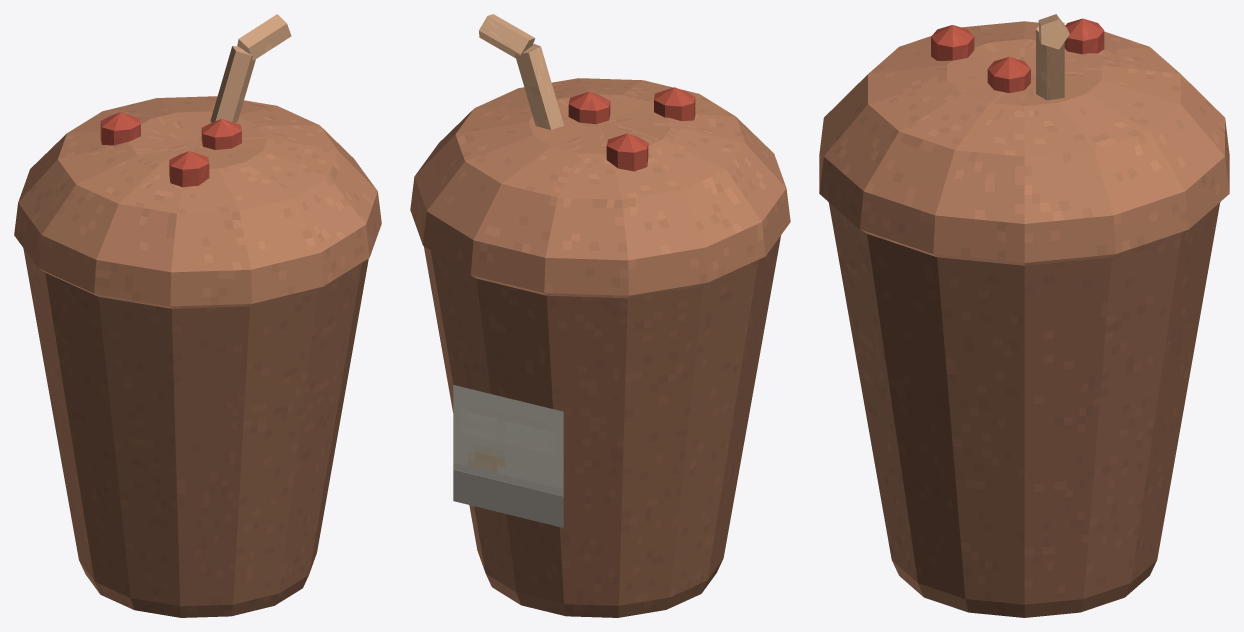
File: milkshake_deluxe_choc.glb
3 renders of one model, left to right at view 1: azimuth 30°, elevation 25°; view 2: azimuth 150°, elevation 25°; view 3: azimuth 270°, elevation 25°, orthographic. The views are drawn at different scales.
Visible parts, largest first — view 1: block_tapered cold-drink cup, block_domed cover, block_fruit and candy topping (×3), block_bent drinking straw 0, block_bent drinking straw 1; view 2: block_tapered cold-drink cup, block_domed cover, block_cup mark, block_fruit and candy topping (×3), block_bent drinking straw 0, block_bent drinking straw 1; view 3: block_tapered cold-drink cup, block_domed cover, block_fruit and candy topping (×3), block_bent drinking straw 0, block_bent drinking straw 1.
Boxes of the visible parts, box(x1,y1,x2,y2) form: block_tapered cold-drink cup: box(23, 248, 368, 617); block_domed cover: box(14, 96, 381, 308); block_fruit and candy topping (×3): box(100, 112, 241, 187); block_bent drinking straw 0: box(210, 46, 255, 122); block_bent drinking straw 1: box(237, 14, 291, 60); block_tapered cold-drink cup: box(423, 236, 780, 617); block_domed cover: box(410, 78, 790, 298); block_cup mark: box(453, 385, 563, 527); block_fruit and candy topping (×3): box(568, 87, 695, 171); block_bent drinking straw 0: box(514, 44, 563, 129); block_bent drinking straw 1: box(479, 14, 535, 58); block_tapered cold-drink cup: box(828, 202, 1220, 617); block_domed cover: box(819, 21, 1229, 265); block_fruit and candy topping (×3): box(931, 18, 1104, 93); block_bent drinking straw 0: box(1036, 22, 1064, 100); block_bent drinking straw 1: box(1038, 14, 1069, 49).
Size of the model in its own units: 0.0825 by 0.129 by 0.0804.
Materials: 1 (1 with a texture image).
